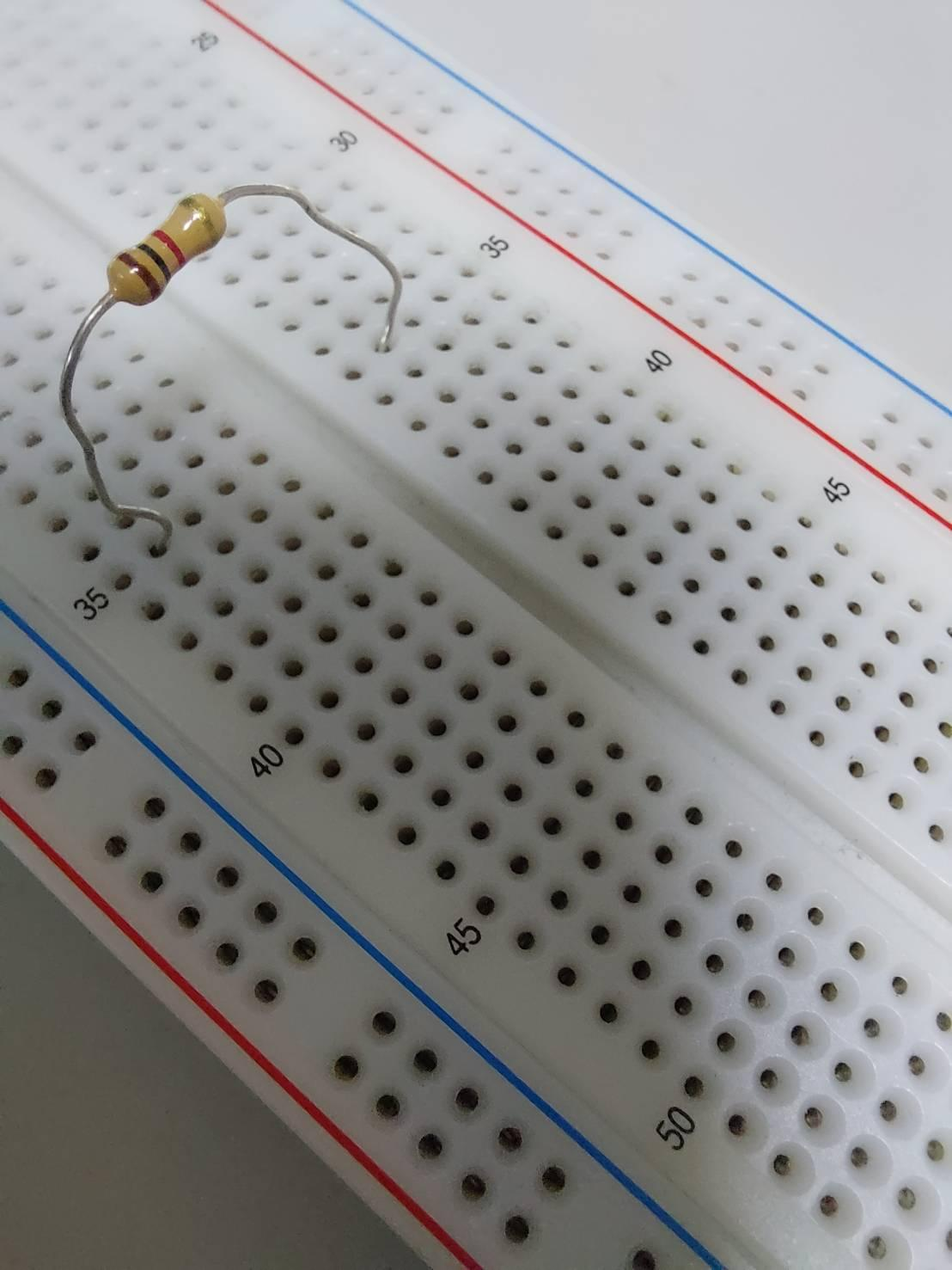resistor: (95, 187, 233, 316)
